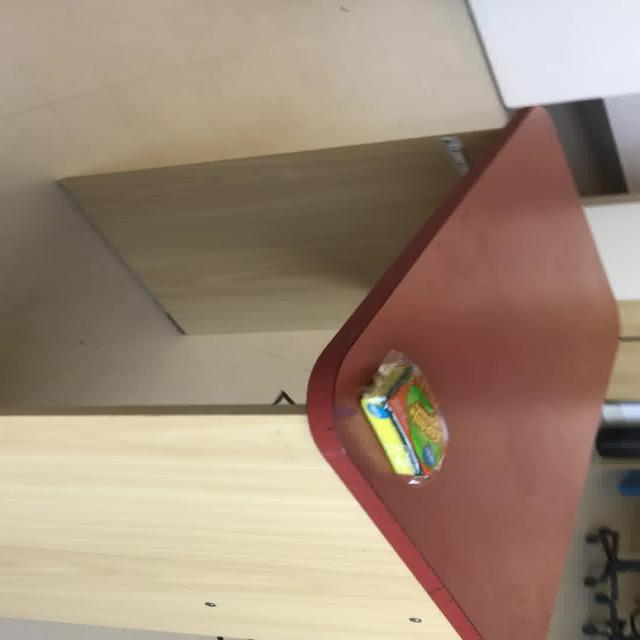sponge: (357, 348, 449, 484)
